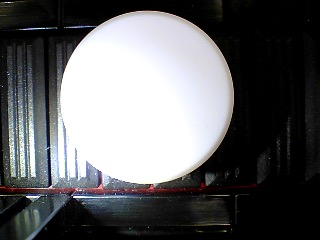BLANK: (59, 10, 234, 185)
